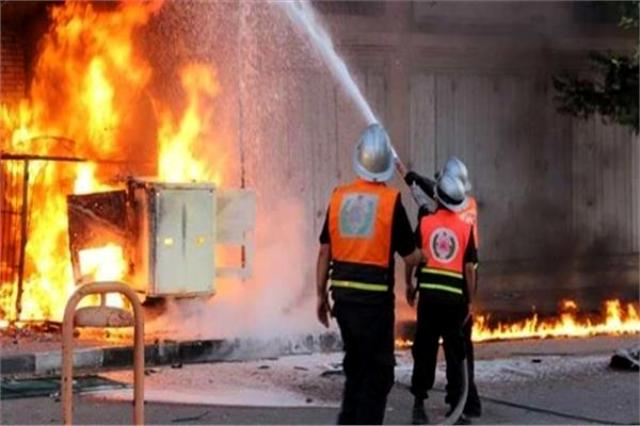fire: (0, 1, 638, 358)
